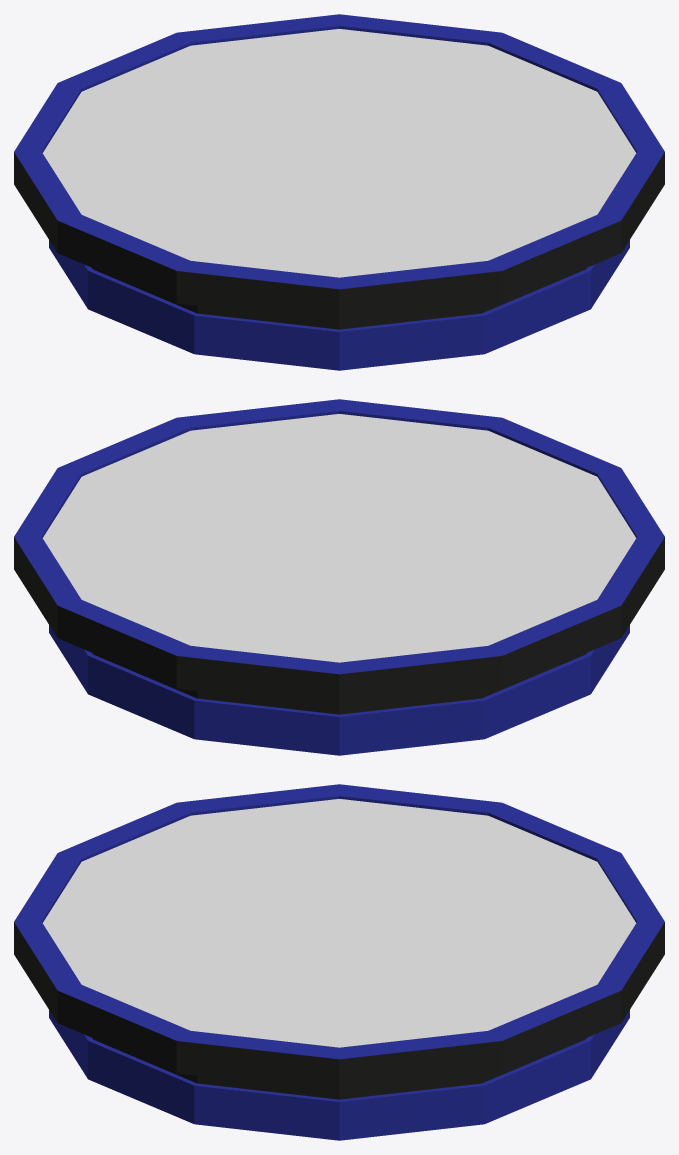
The model's file is Holographic_Projector.fbx.
3 renders of one model, top to bottom at view 1: azimuth 30°, elevation 25°; view 2: azimuth 150°, elevation 25°; view 3: azimuth 270°, elevation 25°, orthographic.
Parts seen in each view (by area): view 1: Holographic_Projector; view 2: Holographic_Projector; view 3: Holographic_Projector.
Boxes of the visible parts, bbox=[...] form: Holographic_Projector: bbox=[14, 14, 664, 370]; Holographic_Projector: bbox=[14, 399, 664, 755]; Holographic_Projector: bbox=[14, 784, 664, 1140].
Size of the model in its own units: 10.58 by 10.58 by 1.73.
